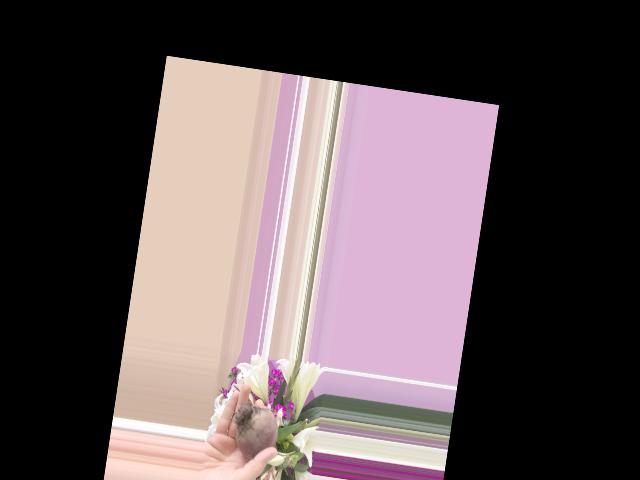beet: (231, 400, 301, 464)
